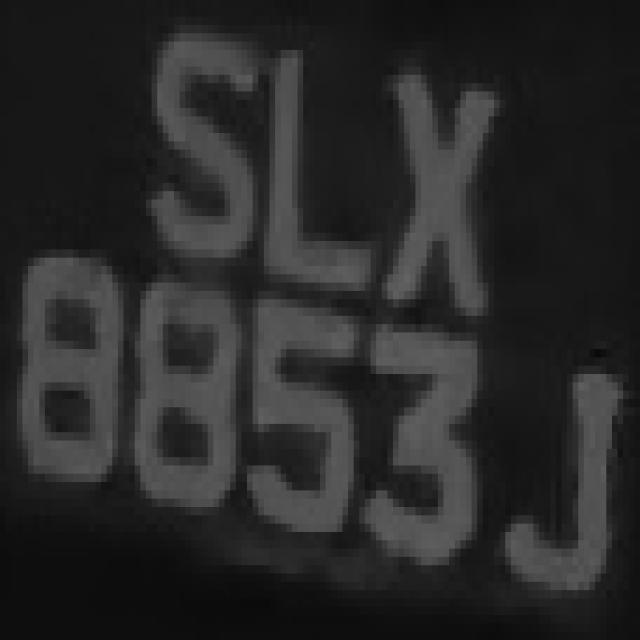3: (332, 307, 488, 582)
5: (241, 249, 365, 557)
8: (118, 250, 241, 548)
9: (11, 199, 118, 532)
J: (488, 316, 629, 607)
L: (258, 33, 382, 316)
S: (135, 17, 258, 274)
X: (376, 41, 500, 316)
